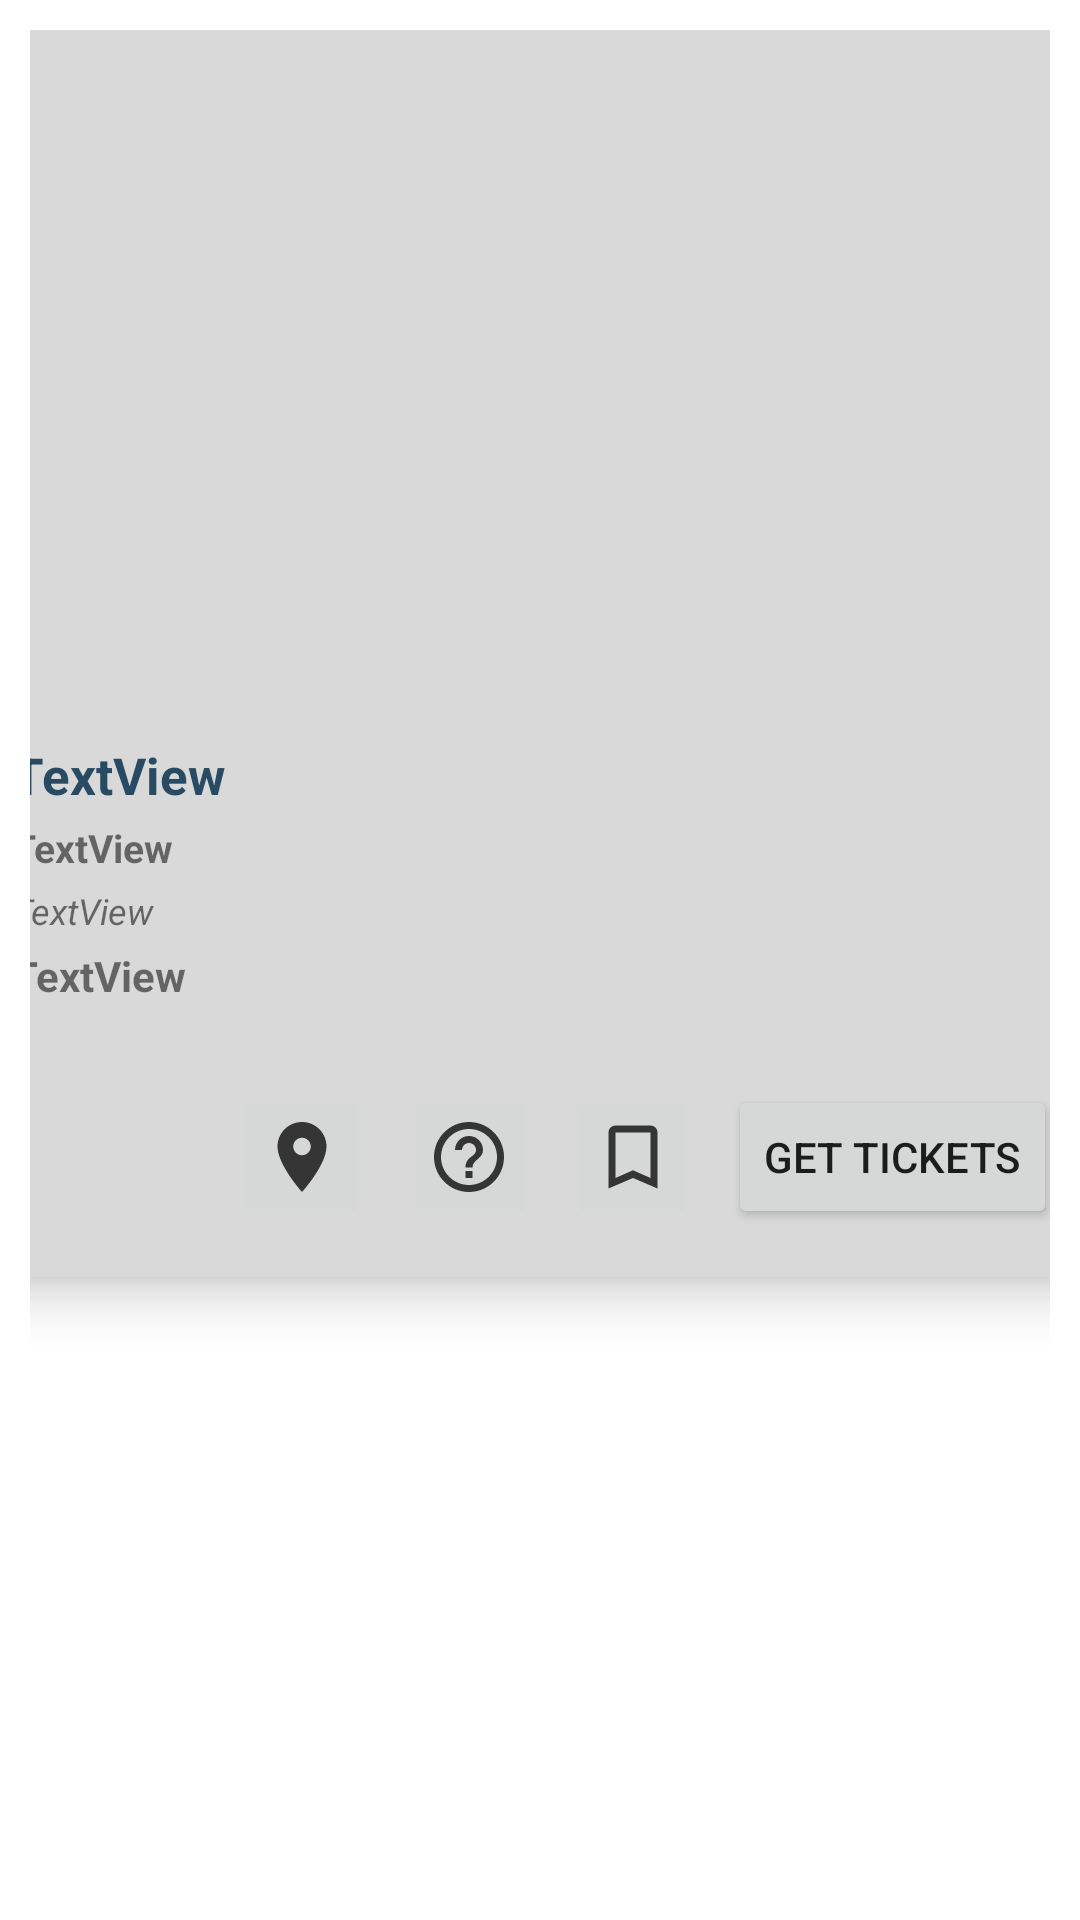

Screen size 1080×1920. Icon name, then its box in pixels as (x1, y1, x2, y2):
bookmark: (608, 1125, 658, 1189)
help: (434, 1122, 504, 1192)
location on: (277, 1122, 327, 1192)
